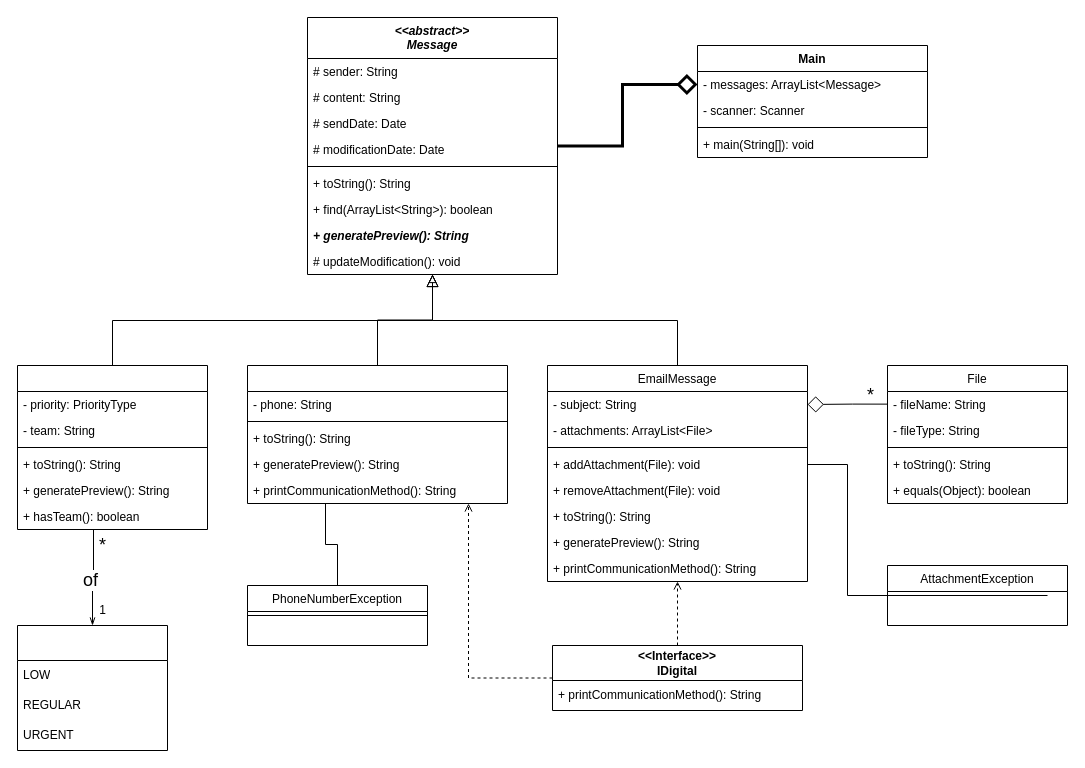
Image size: 1085x768. Some labels were removed from this diagram. The box of each missing label's shape, as (x1, y1, x2, y2) in pixels:
<<Enum>> PriorityType: (16, 624, 168, 750)
BoardMessage: (16, 364, 208, 530)
SMSMessage: (246, 364, 508, 504)
